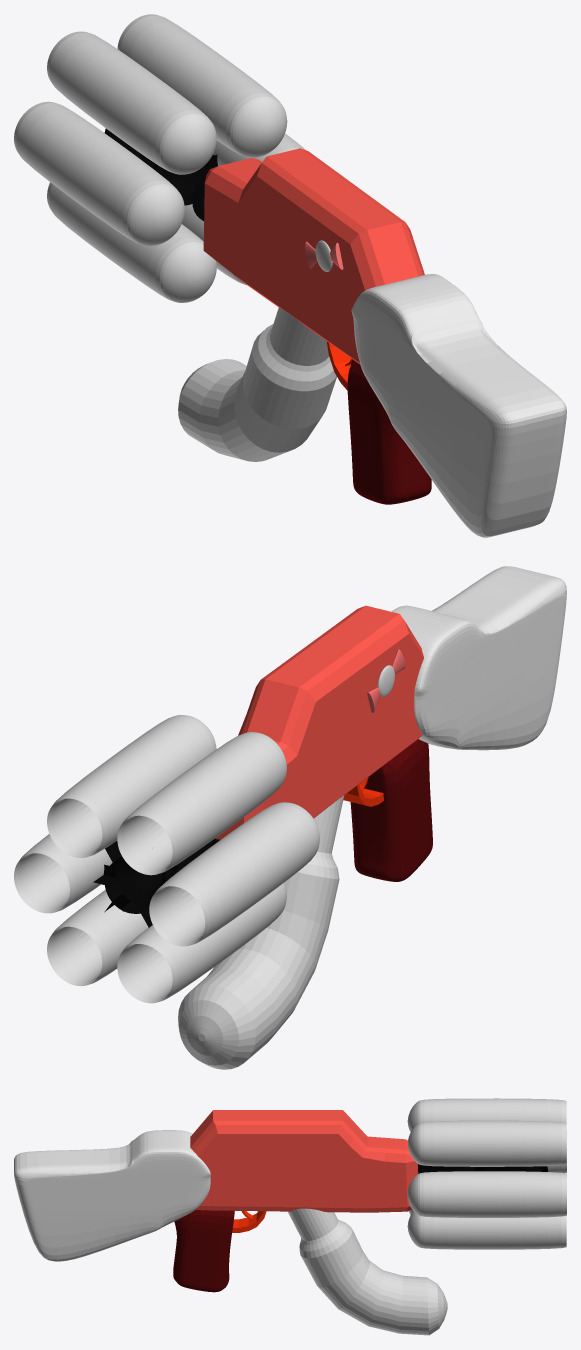
Rendered from SnowAssaultRifle.fbx.
3 renders of one model, top to bottom at view 1: azimuth 30°, elevation 25°; view 2: azimuth 150°, elevation 25°; view 3: azimuth 270°, elevation 25°, orthographic. The views are drawn at different scales.
Visible parts, largest first — view 1: Crosse, Cannon1, Culasse, Chargeur, Cannon1.001, Poignée, liencannon; view 2: Cannon1, Culasse, Crosse, Cannon1.001, Chargeur, Poignée, liencannon; view 3: Culasse, Crosse, Cannon1, Chargeur, Cannon1.001, Poignée, liencannon, Gachette.
Part boxes in pixels (x1=…): Crosse: x1=351, y1=274, x2=566, y2=537; Cannon1: x1=47, y1=14, x2=287, y2=302; Culasse: x1=203, y1=148, x2=424, y2=364; Chargeur: x1=178, y1=307, x2=336, y2=461; Cannon1.001: x1=14, y1=101, x2=306, y2=245; Poignée: x1=347, y1=359, x2=431, y2=504; liencannon: x1=104, y1=128, x2=217, y2=221; Cannon1: x1=47, y1=715, x2=286, y2=1003; Culasse: x1=215, y1=605, x2=423, y2=839; Crosse: x1=391, y1=566, x2=566, y2=750; Cannon1.001: x1=14, y1=802, x2=319, y2=946; Chargeur: x1=178, y1=795, x2=344, y2=1069; Poignée: x1=350, y1=739, x2=432, y2=881; liencannon: x1=93, y1=838, x2=220, y2=927; Culasse: x1=190, y1=1110, x2=418, y2=1212; Crosse: x1=14, y1=1130, x2=210, y2=1261; Cannon1: x1=407, y1=1098, x2=566, y2=1249; Chargeur: x1=288, y1=1208, x2=447, y2=1335; Cannon1.001: x1=407, y1=1131, x2=566, y2=1217; Poignée: x1=173, y1=1210, x2=234, y2=1292; liencannon: x1=418, y1=1164, x2=548, y2=1173; Gachette: x1=232, y1=1211, x2=266, y2=1232.
Bounding box in the file's own units: 206 × 340 × 770.
